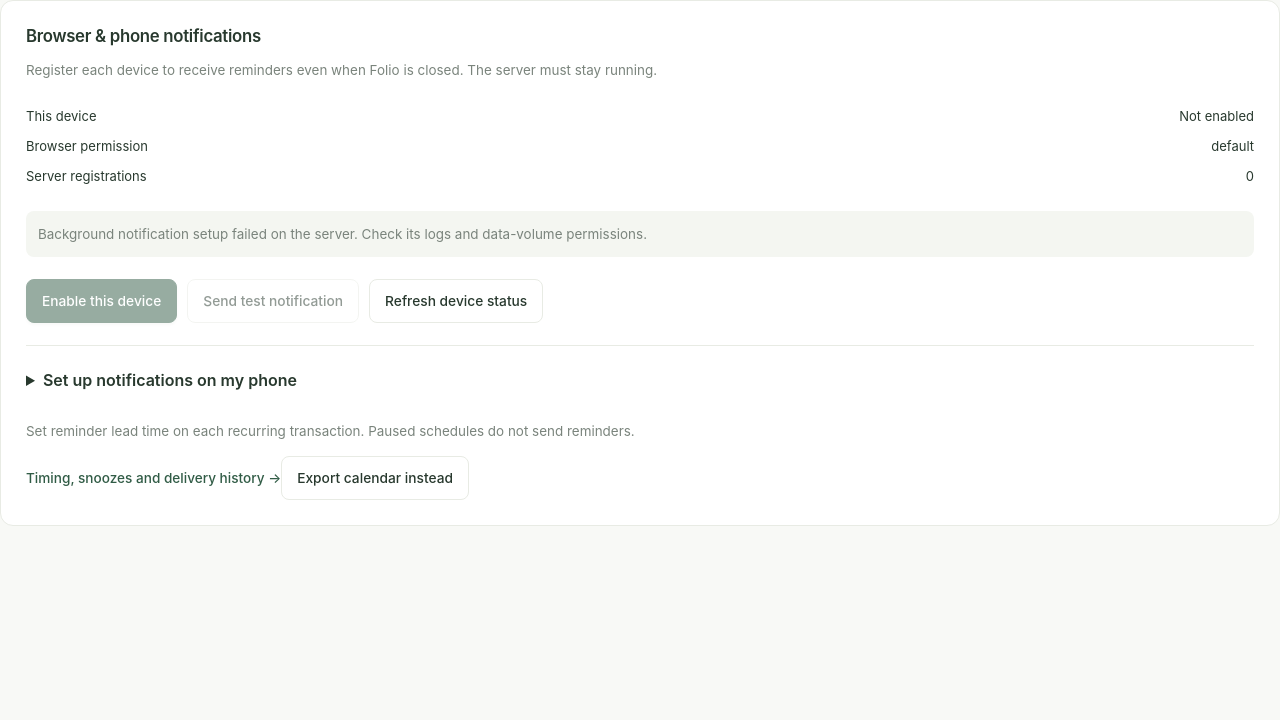
browser and phone setup interactions › refreshes server capability after automatic setup recovers without requesting permission automatically
Check: the text "Background notification setup failed on the server" is shown, box top-left (38, 226), bottom-right (647, 242)
Check: the button "Enable this device" is disabled, box top-left (26, 279), bottom-right (177, 323)
Click the button "Refresh device status".
click(456, 301)  # box top-left (369, 279), bottom-right (543, 323)
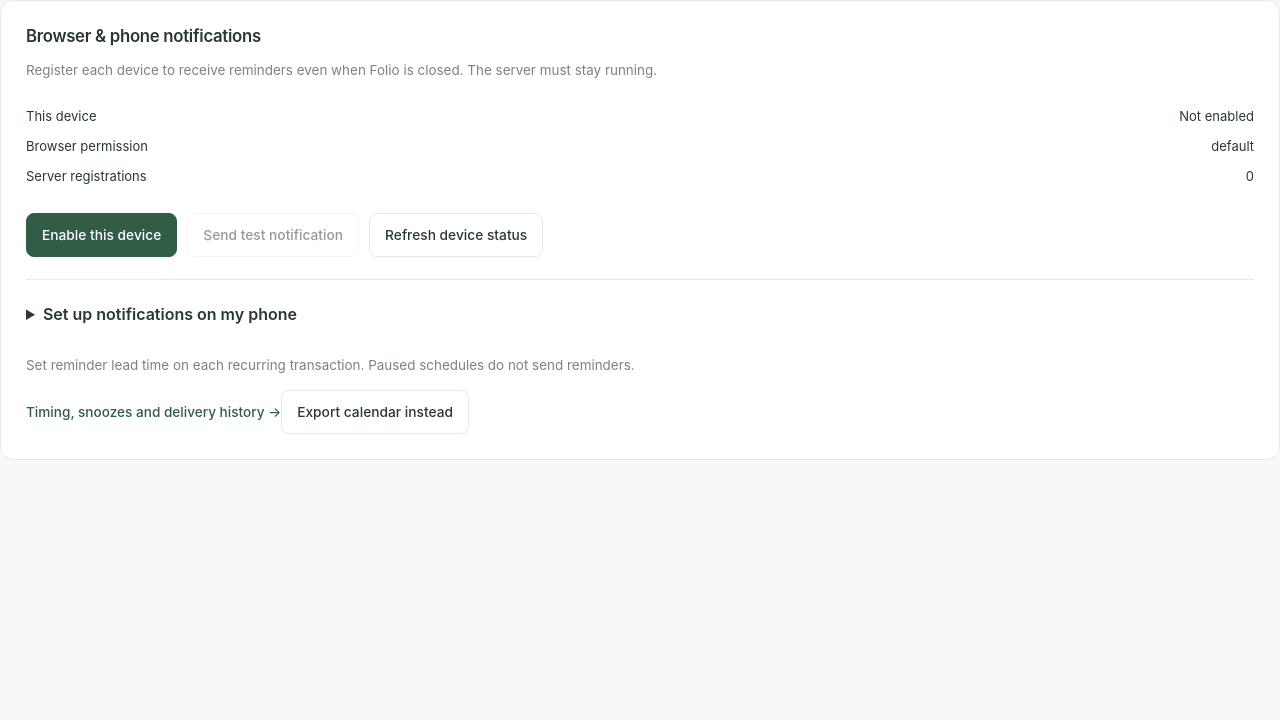
Check: the button "Enable this device" is enabled, box top-left (26, 213), bottom-right (177, 257)
